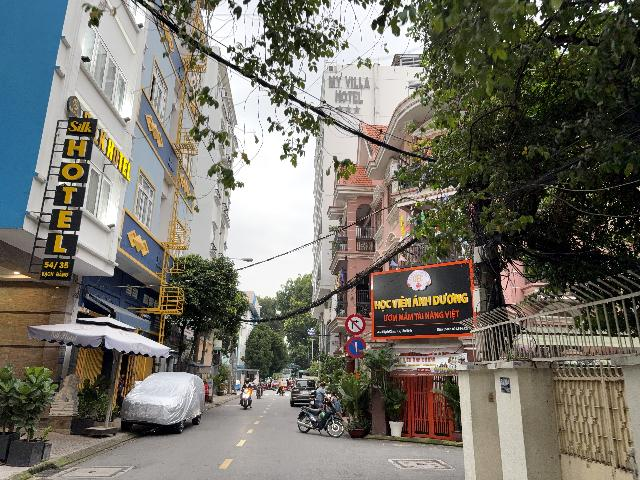cam-do-xe-ngay-le: (346, 336, 366, 359)
cam-re-phai: (345, 314, 366, 335)
